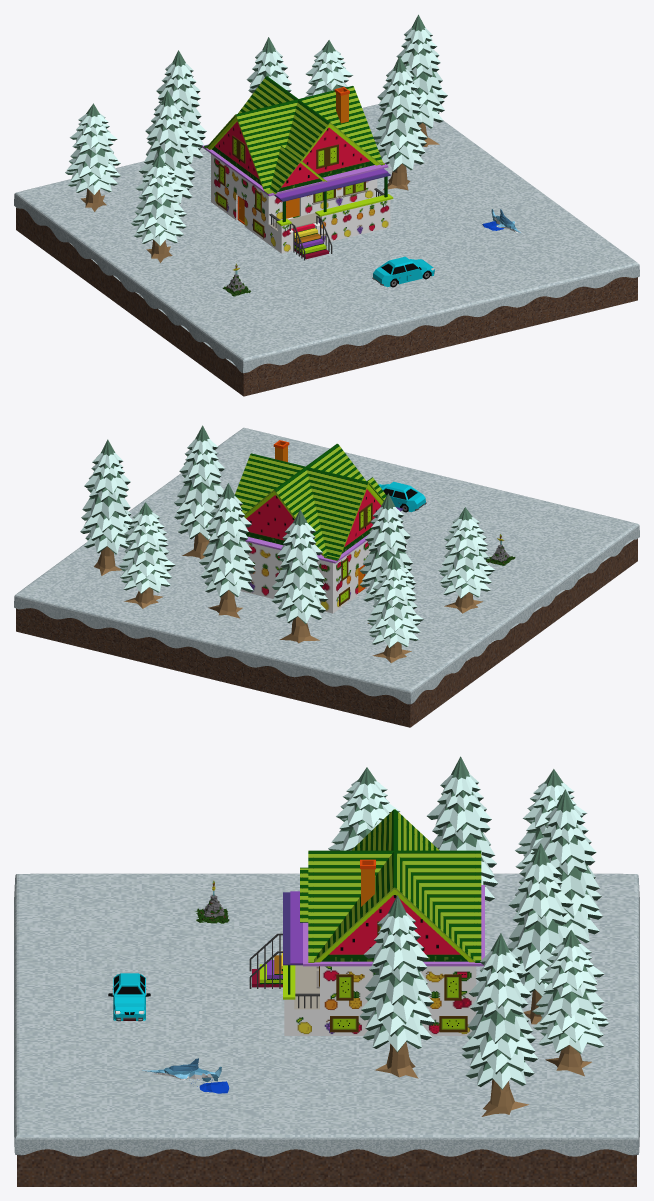
The picture shows the model from 3 angles, top to bottom: view 1: azimuth 30°, elevation 25°; view 2: azimuth 150°, elevation 25°; view 3: azimuth 270°, elevation 25°; orthographic projection. The views are drawn at different scales.
Parts seen in each view (by area): view 1: Cube.003, Cube.1063, VEHICLES_CAR; view 2: Cube.003, Cube.1063, VEHICLES_CAR; view 3: Cube.003, Cube.1063, VEHICLES_CAR, ANIMAL_PEZ_ESPADA, OBJRANDOM_SWORD_IN_THE_STONE.
Boxes of the visible parts, x1=… form: Cube.003: x1=14, y1=14, x2=639, y2=396; Cube.1063: x1=202, y1=76, x2=393, y2=260; VEHICLES_CAR: x1=372, y1=256, x2=434, y2=287; Cube.003: x1=14, y1=425, x2=639, y2=727; Cube.1063: x1=235, y1=440, x2=405, y2=613; VEHICLES_CAR: x1=378, y1=481, x2=426, y2=512; Cube.003: x1=14, y1=756, x2=639, y2=1186; Cube.1063: x1=249, y1=809, x2=484, y2=1035; VEHICLES_CAR: x1=108, y1=973, x2=150, y2=1021; ANIMAL_PEZ_ESPADA: x1=142, y1=1058, x2=229, y2=1093; OBJRANDOM_SWORD_IN_THE_STONE: x1=195, y1=880, x2=229, y2=923.
Bounding box in the file's own units: 4040 × 1715 × 4040.
39 materials, 6 textured.
